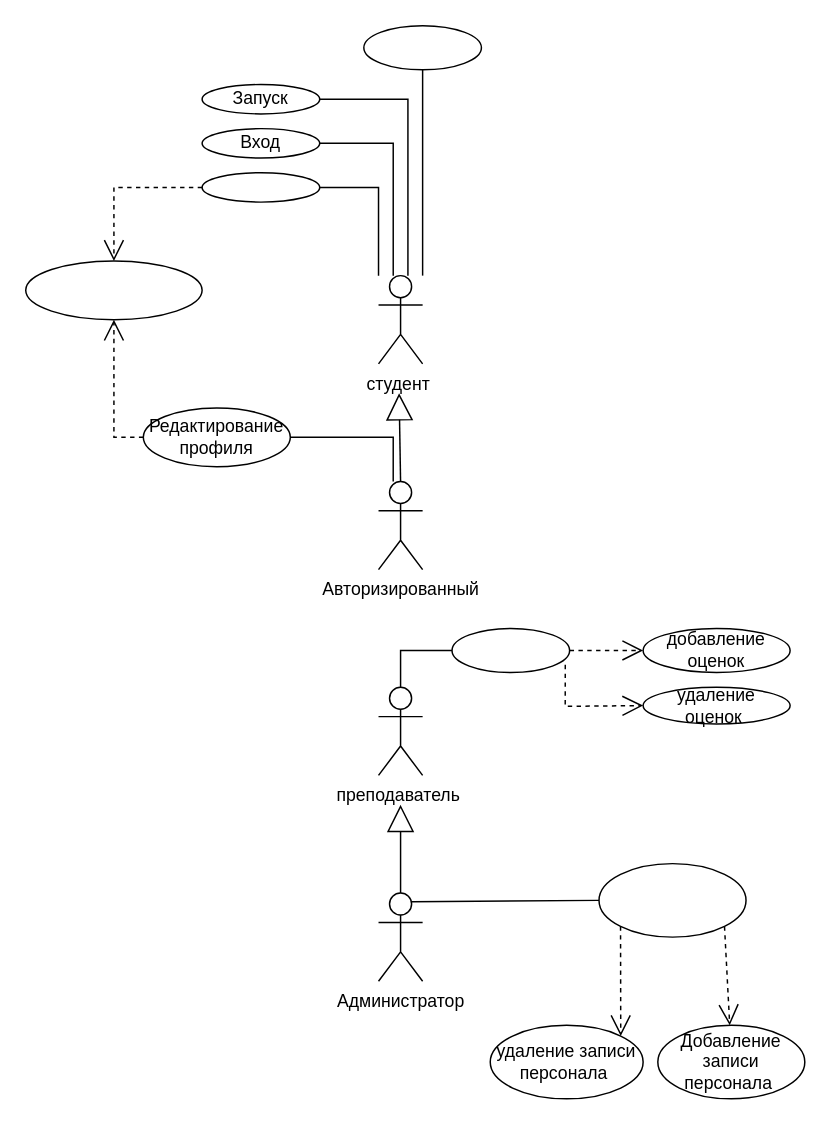
Some shapes in this 831 by 1125 pixel diagram are drawn without their labels. Here are the shapes that lost their labels. From the top down, the box of each, then its label:
(362, 24, 481, 70): просмотр оценок
(201, 171, 320, 202): Регистрация
(24, 259, 202, 320): Подтверждение номера
(451, 627, 570, 673): работа с оценками
(598, 862, 746, 937): работа с персоналом
